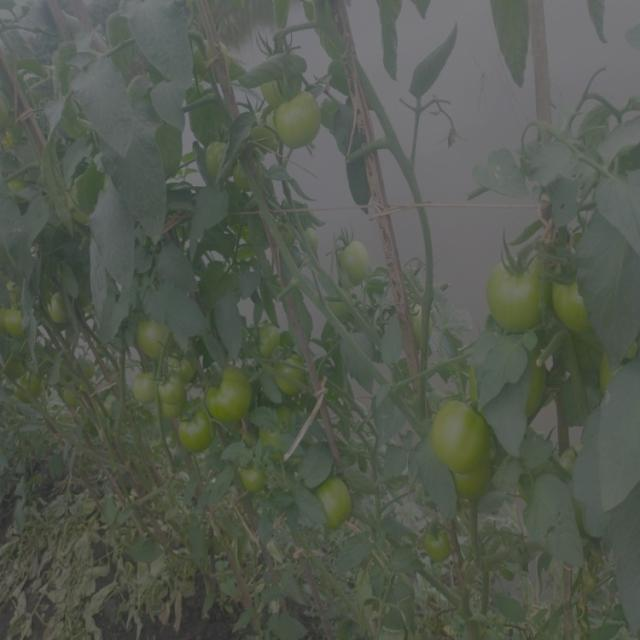tomato: (428, 400, 493, 494), (486, 253, 544, 327), (171, 407, 211, 461), (555, 273, 591, 331), (212, 375, 253, 425), (274, 102, 322, 144), (257, 407, 304, 448), (334, 243, 371, 287), (317, 481, 353, 525), (140, 373, 191, 402), (605, 348, 640, 390), (271, 359, 311, 395), (140, 320, 177, 357), (204, 137, 234, 182), (423, 525, 454, 568), (15, 369, 49, 405), (51, 288, 76, 328), (530, 366, 550, 413), (261, 70, 294, 98), (1, 305, 30, 333), (239, 461, 264, 491), (256, 329, 279, 357), (62, 378, 78, 406), (78, 360, 100, 376)
